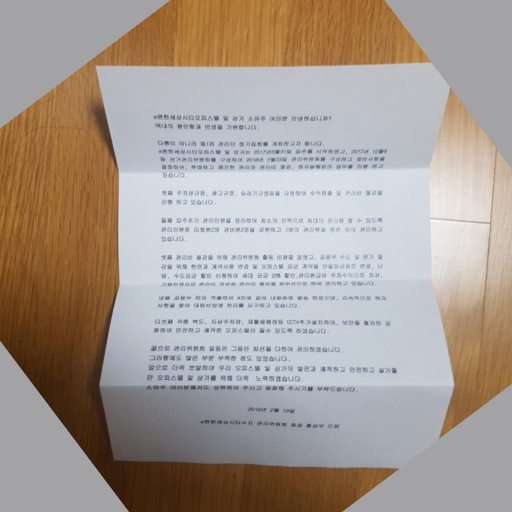Paper_3: (78, 48, 467, 478)
